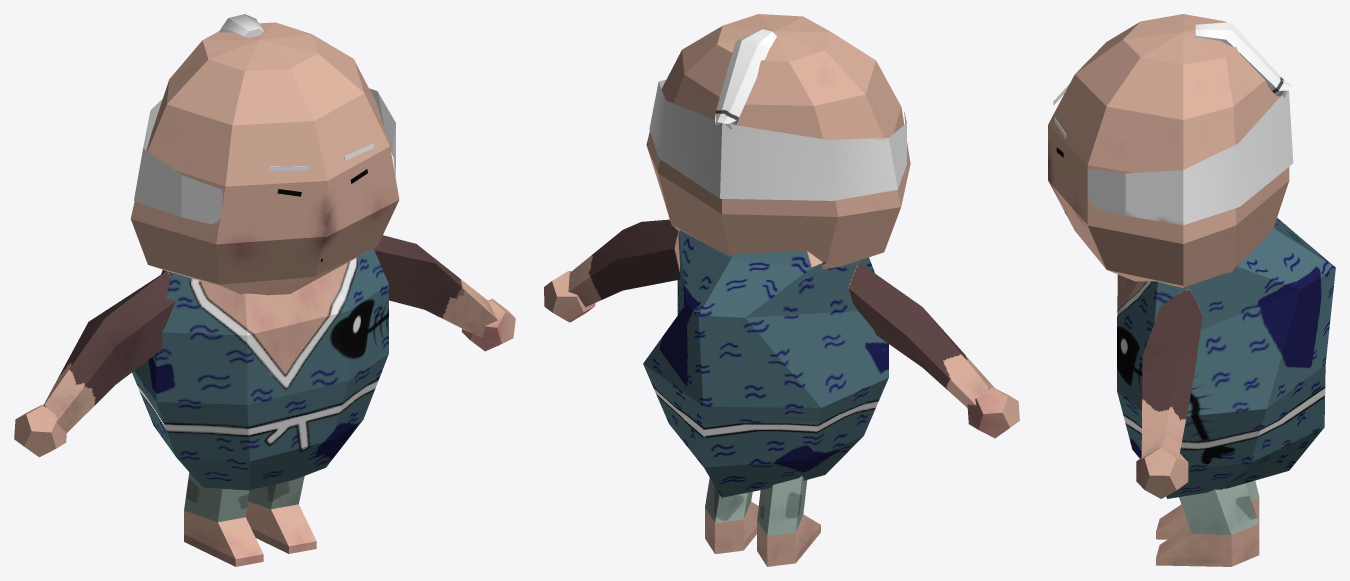
Rendered from Heijyu.fbx.
3 renders of one model, left to right at view 1: azimuth 30°, elevation 25°; view 2: azimuth 150°, elevation 25°; view 3: azimuth 270°, elevation 25°, orthographic. The views are drawn at different scales.
Visible parts, largest first — view 1: Head_Heijyu1, Body_Heijyu, Arm_Right_Heijyu, Arm_Left_Heijyu, Foot_Right_Heijyu, Kami_Yoko_Heijyu, Foot_Left_Heijyu, Hand_Right_Heijyu, Hand_Left_Heijyu, Kami_Unko_Heijyu; view 2: Body_Heijyu, Head_Heijyu1, Kami_Yoko_Heijyu, Arm_Right_Heijyu, Arm_Left_Heijyu, Foot_Right_Heijyu, Foot_Left_Heijyu, Kami_Unko_Heijyu, Hand_Right_Heijyu, Hand_Left_Heijyu; view 3: Head_Heijyu1, Body_Heijyu, Kami_Yoko_Heijyu, Arm_Left_Heijyu, Foot_Left_Heijyu, Hand_Left_Heijyu, Kami_Unko_Heijyu, Foot_Right_Heijyu.
Part boxes in pixels (x1,y1,x2,y2): Head_Heijyu1: (130, 22, 399, 295); Body_Heijyu: (132, 248, 388, 490); Arm_Right_Heijyu: (43, 271, 175, 432); Arm_Left_Heijyu: (373, 235, 498, 346); Foot_Right_Heijyu: (184, 472, 263, 566); Kami_Yoko_Heijyu: (134, 88, 395, 224); Foot_Left_Heijyu: (246, 476, 316, 553); Hand_Right_Heijyu: (14, 405, 66, 457); Hand_Left_Heijyu: (461, 299, 515, 351); Kami_Unko_Heijyu: (219, 14, 263, 38); Body_Heijyu: (643, 230, 888, 497); Head_Heijyu1: (646, 14, 910, 269); Kami_Yoko_Heijyu: (649, 79, 906, 200); Arm_Right_Heijyu: (848, 262, 994, 407); Arm_Left_Heijyu: (568, 219, 679, 307); Foot_Right_Heijyu: (757, 476, 820, 566); Foot_Left_Heijyu: (705, 478, 758, 554); Kami_Unko_Heijyu: (715, 29, 776, 129); Hand_Right_Heijyu: (967, 387, 1019, 438); Hand_Left_Heijyu: (544, 271, 595, 322); Head_Heijyu1: (1048, 14, 1289, 287); Body_Heijyu: (1117, 218, 1335, 498); Kami_Yoko_Heijyu: (1087, 90, 1293, 225); Arm_Left_Heijyu: (1141, 289, 1202, 457); Foot_Left_Heijyu: (1156, 483, 1259, 566); Hand_Left_Heijyu: (1136, 447, 1188, 498); Kami_Unko_Heijyu: (1195, 22, 1291, 97); Foot_Right_Heijyu: (1156, 480, 1259, 539).
Size of the model in its own units: 4.05 by 4.13 by 2.08.
